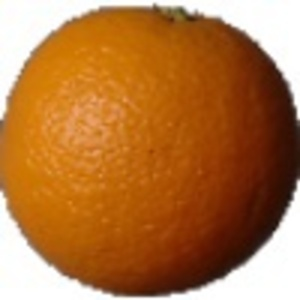laranja: (2, 2, 298, 296)
